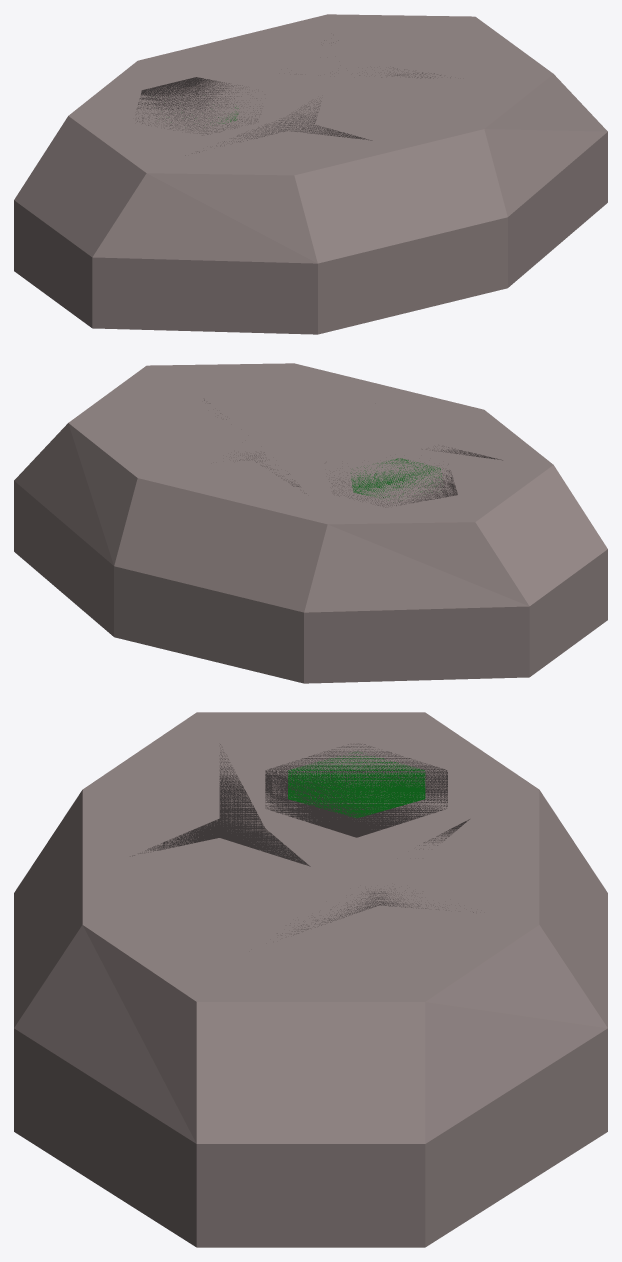
File: inv_glarials_pebble.obj
3 renders of one model, top to bottom at view 1: azimuth 30°, elevation 25°; view 2: azimuth 150°, elevation 25°; view 3: azimuth 270°, elevation 25°, orthographic. The views are drawn at different scales.
Size of the model in its own units: 0.2969 by 0.0781 by 0.2031.
